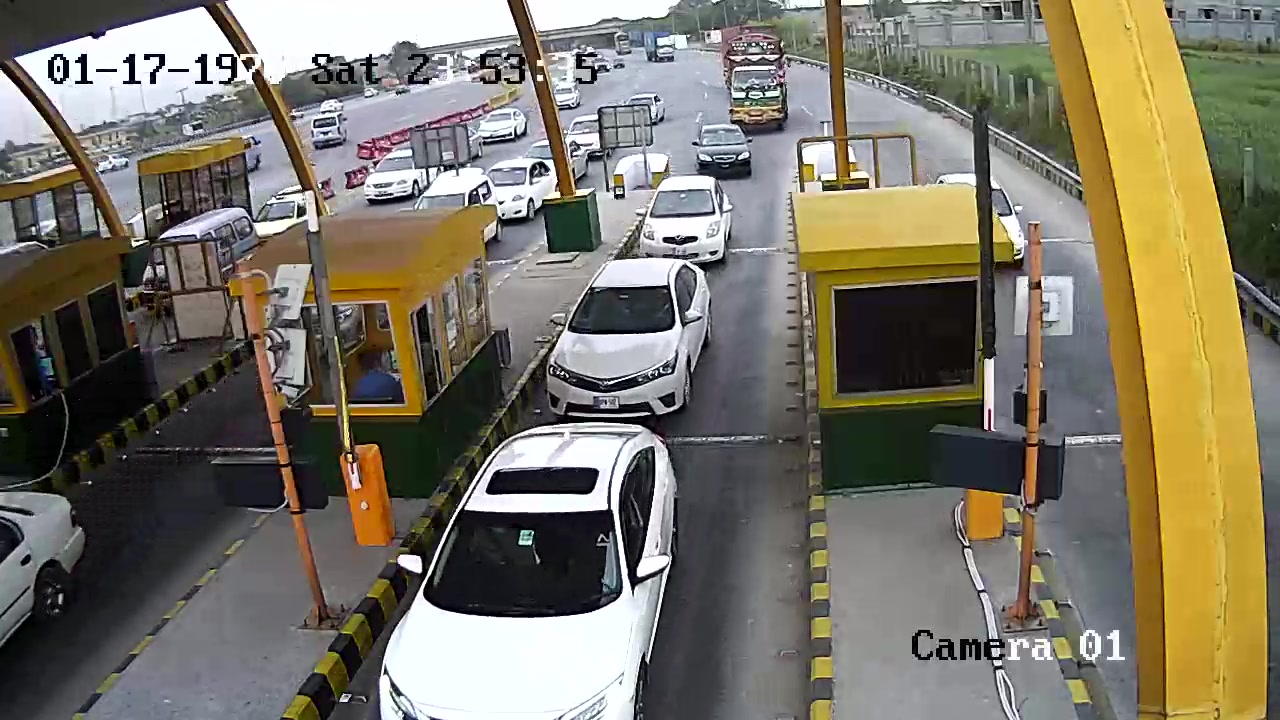F1: (539, 257, 721, 423)
